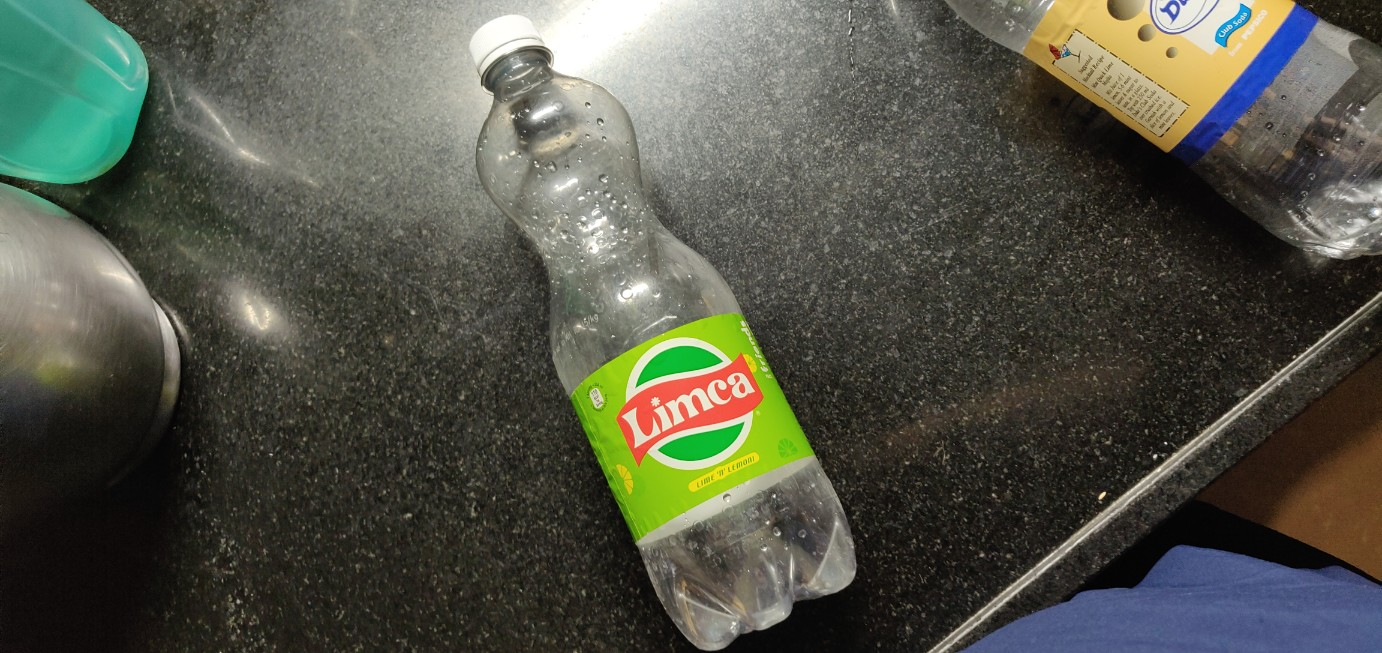Electronics: (441, 8, 899, 649)
